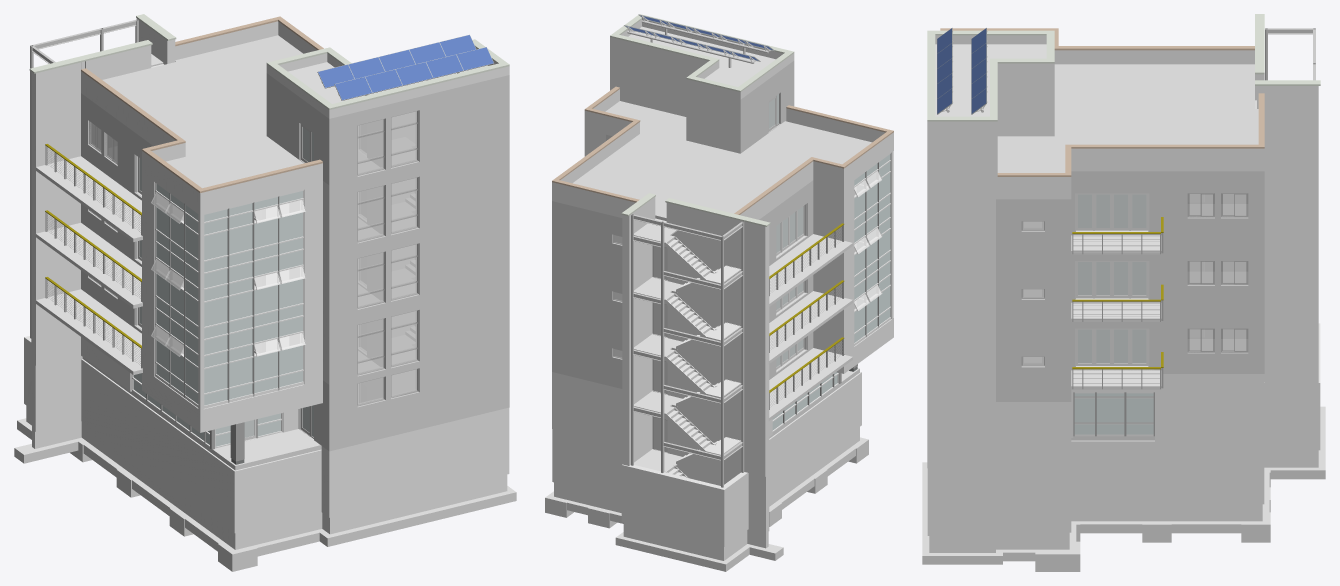
3 views of the same model, side by side, from view 1: azimuth 30°, elevation 25°; view 2: azimuth 150°, elevation 25°; view 3: azimuth 270°, elevation 25° (orthographic). The views are drawn at different scales.
Parts seen in each view (by area): view 1: 1Wz6OBb8v3zxIqKXFcScod, 0nAIxYTU95phgCVLRkjKIV, 1aSS_MFH57XhMn$sHdjopq, 1DVogryt976PRMMUZGZxkI, 2NmuolN39EiBJ$Vud_J$yQ, 0zIj277ez9Hx0Lcbxj$Utx, 0y0y5_XtL199$znVnnBTox, 3iMUb_Jz518PZPqx7lvIZt, 1fslZa5Lf3e9sVG67U3NIw, 0SfUs9CTjATQRgx8uMELQT, 3qxUs6YvH3TwzKUT1tAPaT, 3jsaX9kO55We34poMmzO6v (+52 smaller); view 2: 1Wz6OBb8v3zxIqKXFcScod, 0ijvQes451o8Ff_K6GxhX$, 1DVogryt976PRMMUZGZxkI, 12esFvSqj2SRwv9E$m1d6h, 2w6i5zN29DFQpd1A_XLAbI, 1YcfMT4lz4H9jxcFD5kG1W, 3PEm2kfeLDCPvaZ8OdFKXO, 003se4MKX9OAsciTbqvro$, 1U_bvFzDD5$QN$vG5r20Hk, 0Fv9MoXFb6FhYfHqcG6qJq, 2u8xUTR2TCVe3KkjaTn2tI, 3jsaX9kO55We34poMmzO6v (+67 smaller); view 3: 1Wz6OBb8v3zxIqKXFcScod, 0I8nQNkZf5wu1o$3ndSZ2t, 1UqKeeSub3Zfqp4YsScr2a, 2V$tULlvXAcP5tMwnNfH58, 0ZEqxSF090HhTttEVTZu0V, 0pF2HxsEH1pBKEVC7jb4xt, 3TNK0MCjb62wJTTLQEyKSb, 0WZCgf3ljFmOwp15YOoTrM, 2aV8Sg1evEzeblQXYXPWS$, 3g98O65O9CYxyAzI6u8jrN, 1YIRQXlG9AXvZ1w7pqNJSF, 0FxWCeuwzALBlwY7jk2t1z (+60 smaller).
Part boxes in pixels (left/top/right/bottom): 1Wz6OBb8v3zxIqKXFcScod: left=102, top=35, right=303, bottom=188; 0nAIxYTU95phgCVLRkjKIV: left=329, top=407, right=509, bottom=517; 1aSS_MFH57XhMn$sHdjopq: left=329, top=341, right=509, bottom=451; 1DVogryt976PRMMUZGZxkI: left=81, top=359, right=234, bottom=532; 2NmuolN39EiBJ$Vud_J$yQ: left=329, top=141, right=509, bottom=251; 0zIj277ez9Hx0Lcbxj$Utx: left=329, top=274, right=509, bottom=384; 0y0y5_XtL199$znVnnBTox: left=329, top=208, right=509, bottom=318; 3iMUb_Jz518PZPqx7lvIZt: left=329, top=75, right=509, bottom=185; 1fslZa5Lf3e9sVG67U3NIw: left=234, top=449, right=321, bottom=533; 0SfUs9CTjATQRgx8uMELQT: left=35, top=289, right=142, bottom=374; 3qxUs6YvH3TwzKUT1tAPaT: left=36, top=156, right=142, bottom=241; 3jsaX9kO55We34poMmzO6v: left=35, top=223, right=142, bottom=308; 1Wz6OBb8v3zxIqKXFcScod: left=573, top=101, right=871, bottom=220; 0ijvQes451o8Ff_K6GxhX$: left=623, top=464, right=724, bottom=546; 1DVogryt976PRMMUZGZxkI: left=769, top=372, right=861, bottom=492; 12esFvSqj2SRwv9E$m1d6h: left=610, top=44, right=700, bottom=116; 2w6i5zN29DFQpd1A_XLAbI: left=552, top=372, right=622, bottom=445; 1YcfMT4lz4H9jxcFD5kG1W: left=552, top=315, right=622, bottom=388; 3PEm2kfeLDCPvaZ8OdFKXO: left=552, top=201, right=622, bottom=274; 003se4MKX9OAsciTbqvro$: left=552, top=258, right=622, bottom=331; 1U_bvFzDD5$QN$vG5r20Hk: left=552, top=429, right=622, bottom=498; 0Fv9MoXFb6FhYfHqcG6qJq: left=686, top=86, right=740, bottom=153; 2u8xUTR2TCVe3KkjaTn2tI: left=740, top=61, right=794, bottom=153; 3jsaX9kO55We34poMmzO6v: left=768, top=291, right=852, bottom=363; 1Wz6OBb8v3zxIqKXFcScod: left=997, top=64, right=1258, bottom=172; 0I8nQNkZf5wu1o$3ndSZ2t: left=1071, top=440, right=1264, bottom=504; 1UqKeeSub3Zfqp4YsScr2a: left=1155, top=374, right=1264, bottom=441; 2V$tULlvXAcP5tMwnNfH58: left=1161, top=238, right=1264, bottom=306; 0ZEqxSF090HhTttEVTZu0V: left=1161, top=171, right=1264, bottom=238; 0pF2HxsEH1pBKEVC7jb4xt: left=1161, top=306, right=1264, bottom=373; 3TNK0MCjb62wJTTLQEyKSb: left=996, top=402, right=1071, bottom=469; 0WZCgf3ljFmOwp15YOoTrM: left=996, top=199, right=1071, bottom=266; 2aV8Sg1evEzeblQXYXPWS$: left=996, top=334, right=1071, bottom=401; 3g98O65O9CYxyAzI6u8jrN: left=996, top=267, right=1071, bottom=334; 1YIRQXlG9AXvZ1w7pqNJSF: left=996, top=469, right=1071, bottom=532; 0FxWCeuwzALBlwY7jk2t1z: left=927, top=130, right=997, bottom=197.
Bounding box in the file's own units: 19.8 × 26.54 × 20.55.
